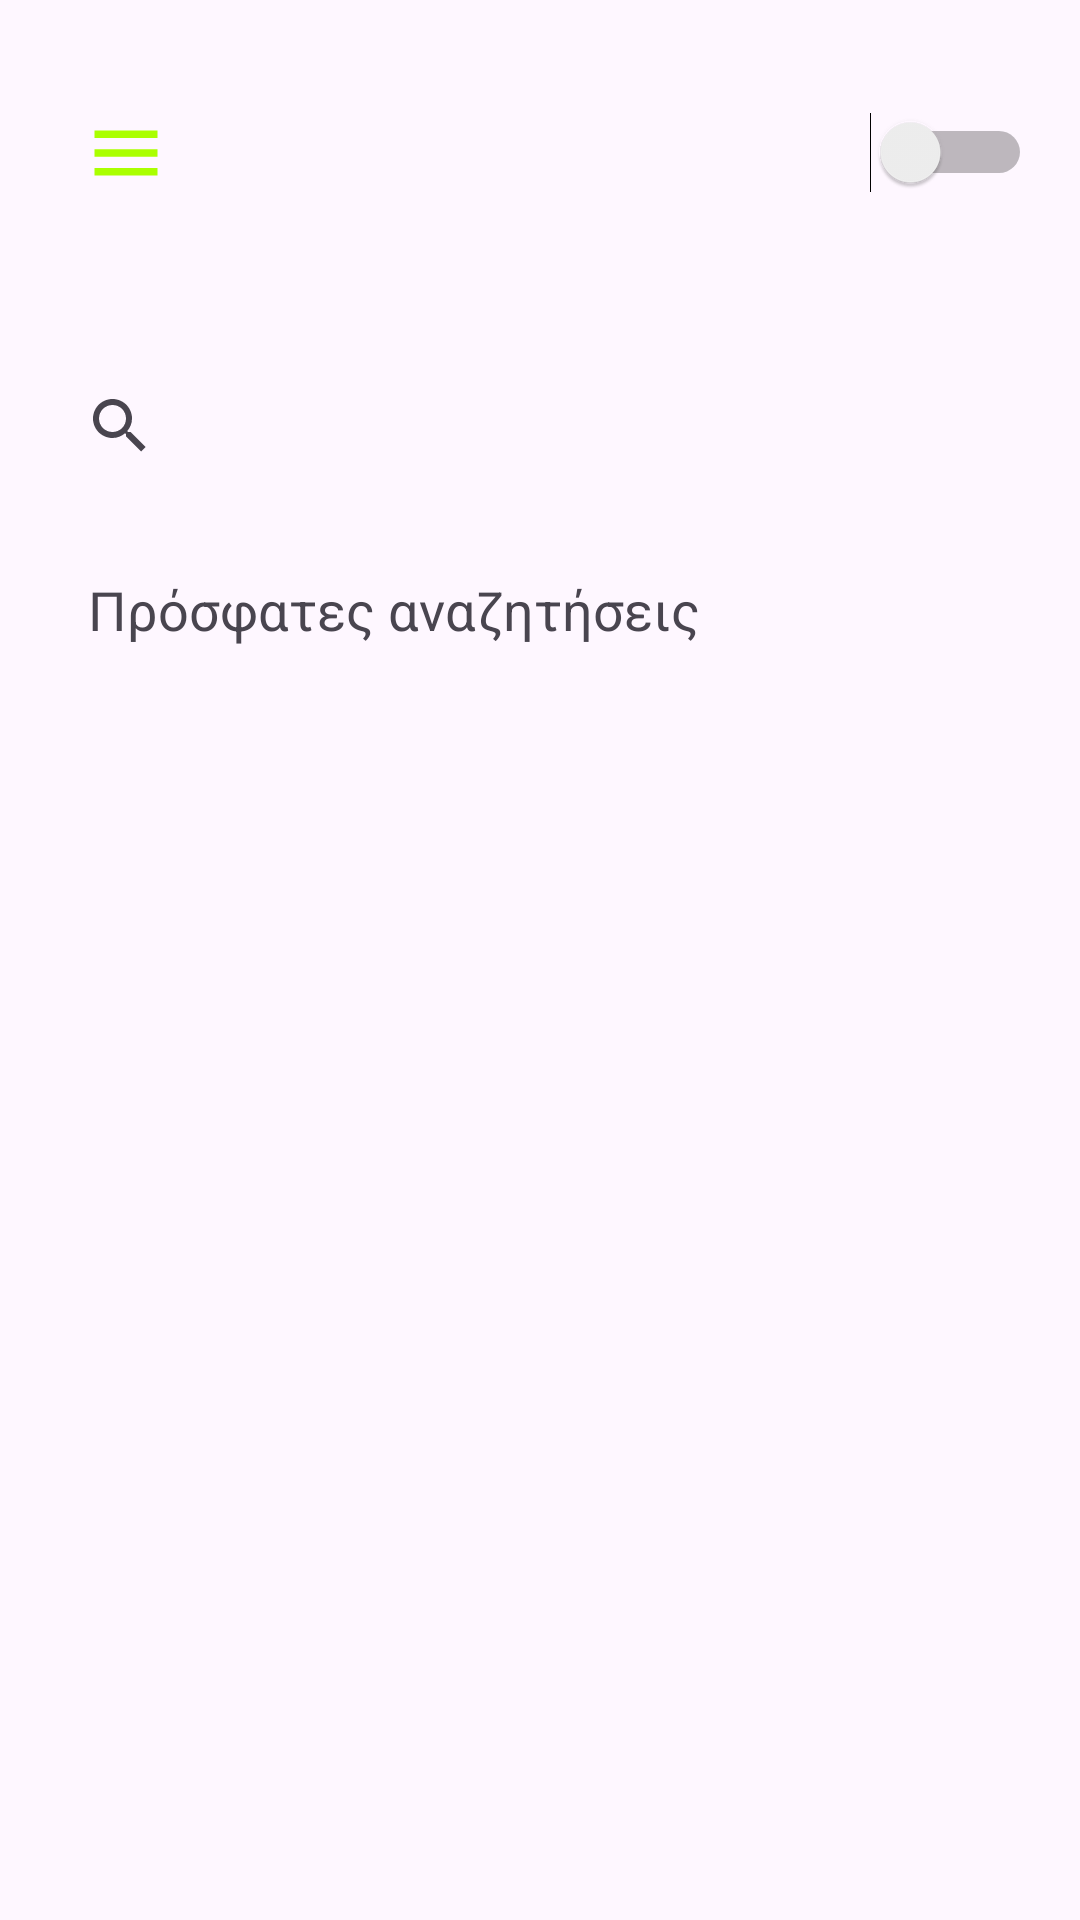

Icons on this 1080x1920 Android screen, each with its box as (x1, y1, x2, y2):
Menu: (94, 130, 158, 176)
